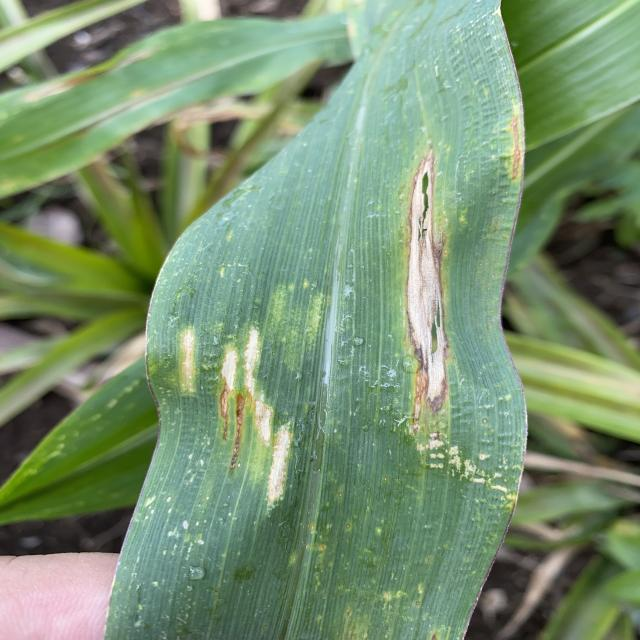Corn_Leaf_Blight: (133, 0, 527, 640)
